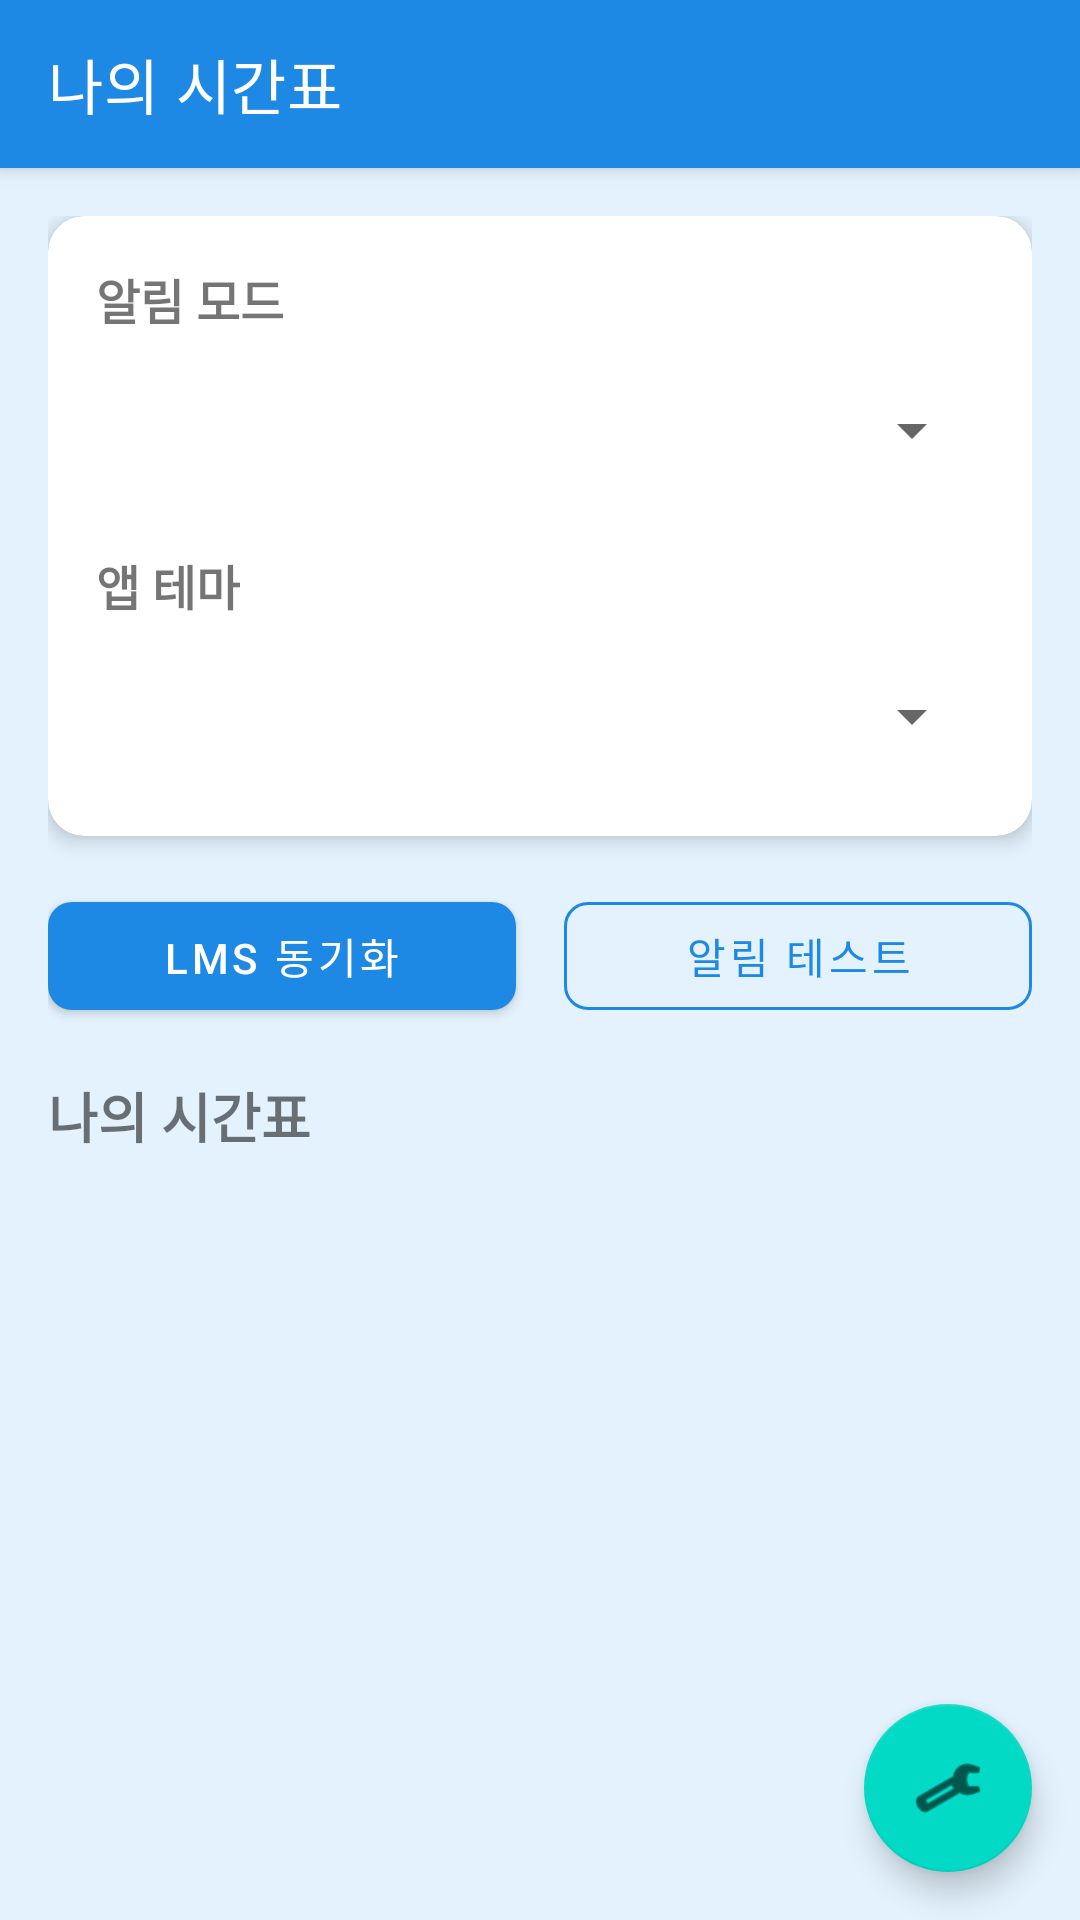

Locate icon controls on the screen. Image size 1080*1920, boxes as bbox=(x1, y1, x2, y2).
설정: bbox=(864, 1704, 1032, 1872)
